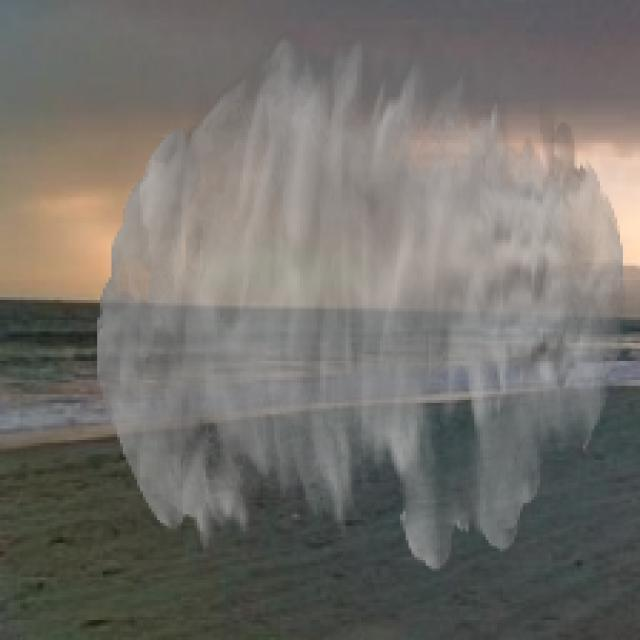Smoke: (97, 29, 626, 572)
